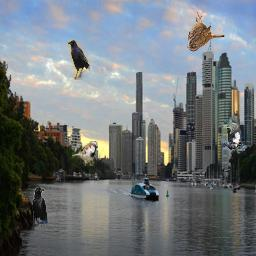Crow: (68, 40, 90, 80), (33, 187, 48, 227)
Sparrow: (186, 12, 225, 52), (72, 141, 98, 166)
Woodpecker: (220, 124, 244, 155)
